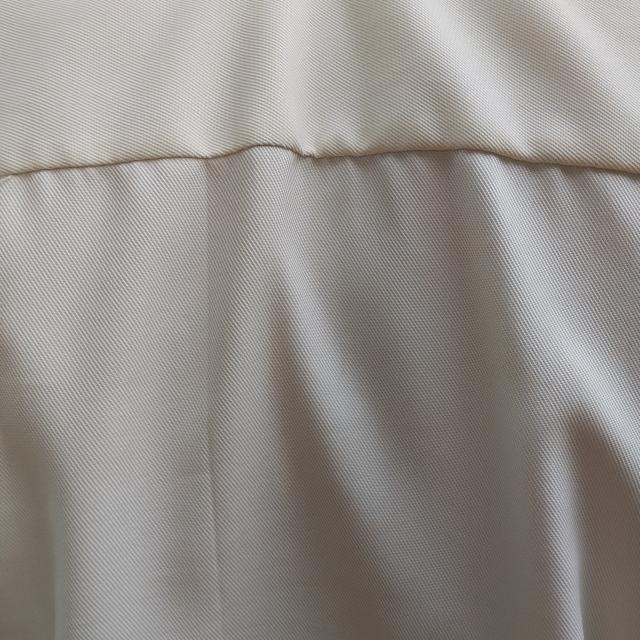education_male_uniform: (11, 45, 640, 640)
